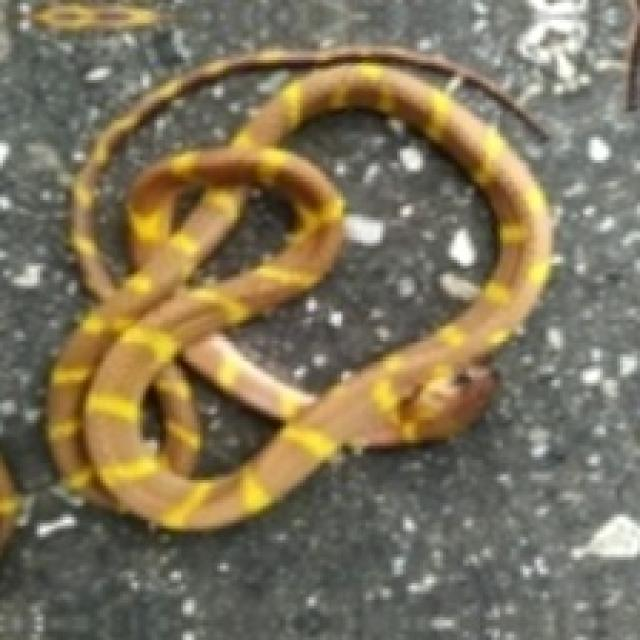mangrove cat snake: (46, 49, 549, 529)
